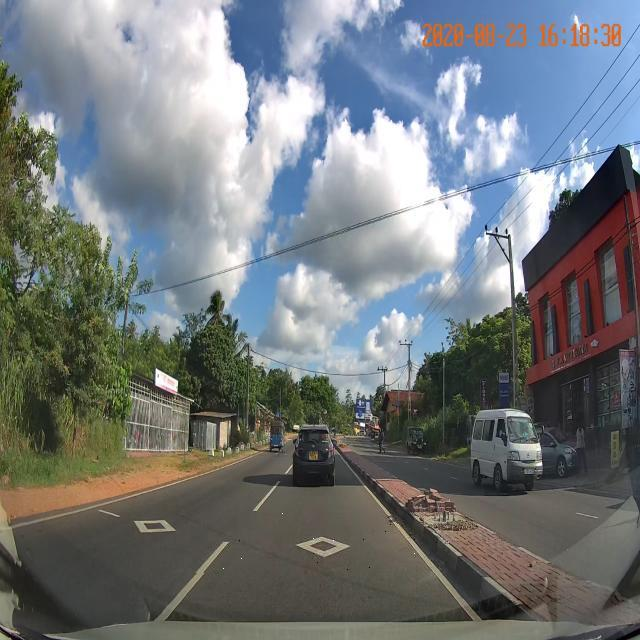diamond: (191, 512, 442, 573)
